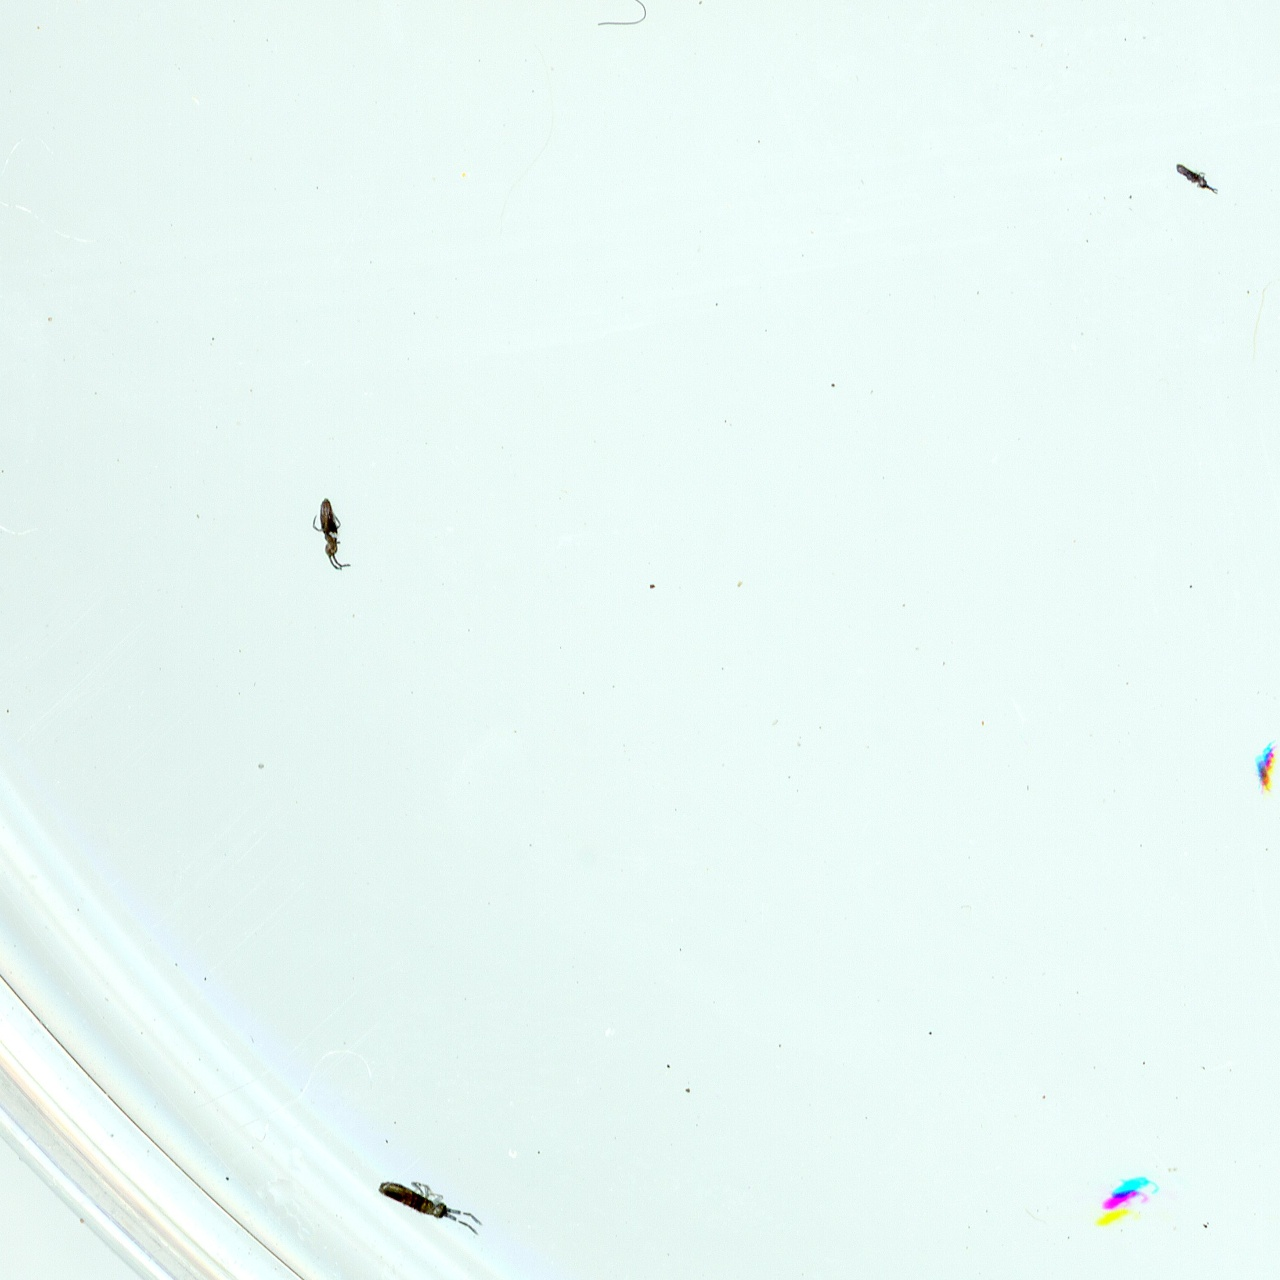arthropod: (361, 1156, 496, 1250), (1089, 1171, 1166, 1235), (1160, 150, 1231, 206), (308, 490, 353, 576), (1250, 736, 1280, 797)
